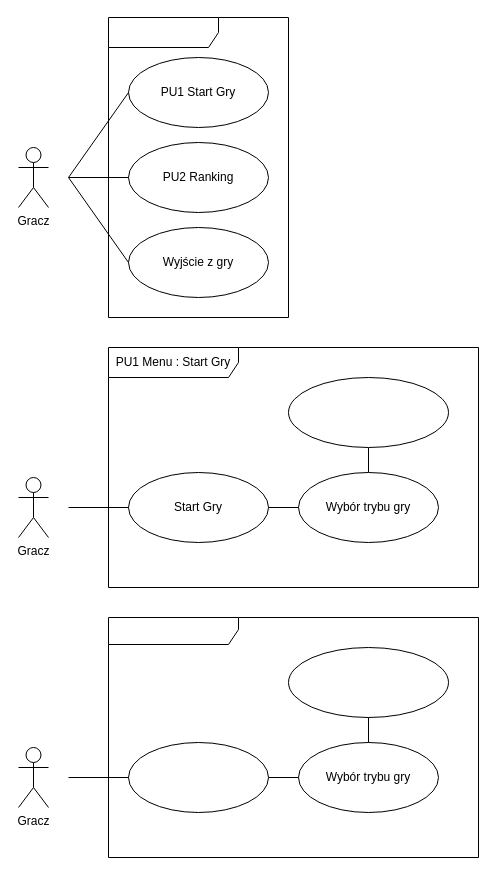
The diagram is 496 pixels wide and 875 high, and some of its shapes have lost their labels. The box of each missing label's shape, as (x1, y1, x2, y2) in pixels:
Menu: (108, 16, 288, 318)
PU2 Menu : Ranking: (108, 616, 478, 858)
Ranking: (128, 742, 268, 812)
Rozpoczęcie rozgrywki w danym trybie: (288, 376, 448, 448)
Wyświetl 10 Najlepszych wyników z danego trybu: (288, 646, 448, 718)
